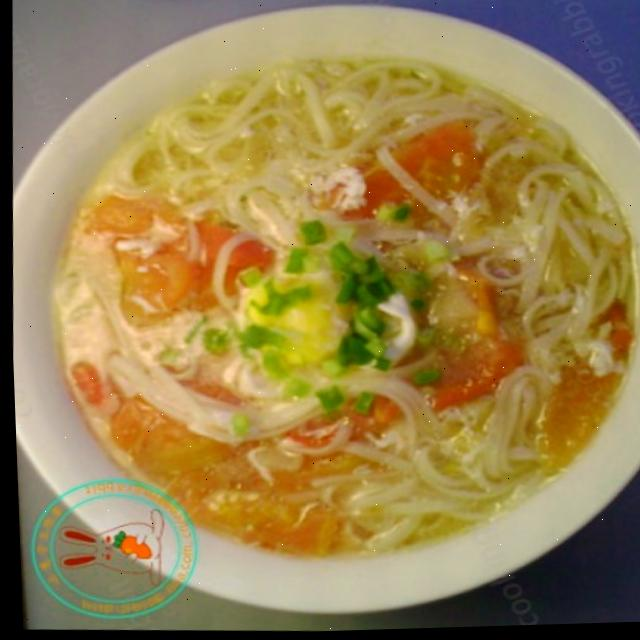面条主食: (11, 0, 640, 624)
